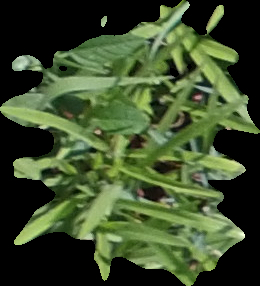grass: (1, 1, 258, 284)
